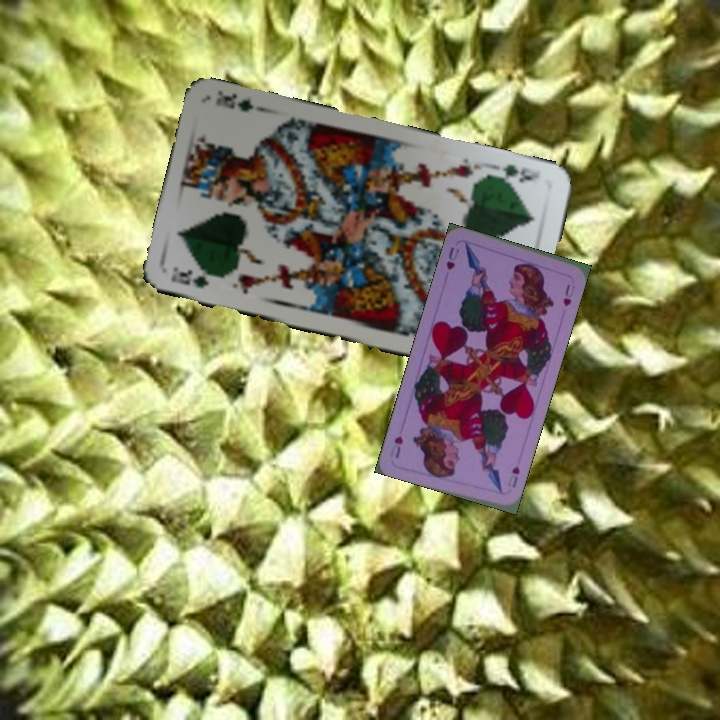GK: (489, 160, 543, 186), (167, 267, 211, 291)
HU: (442, 243, 462, 272), (508, 462, 522, 490)
